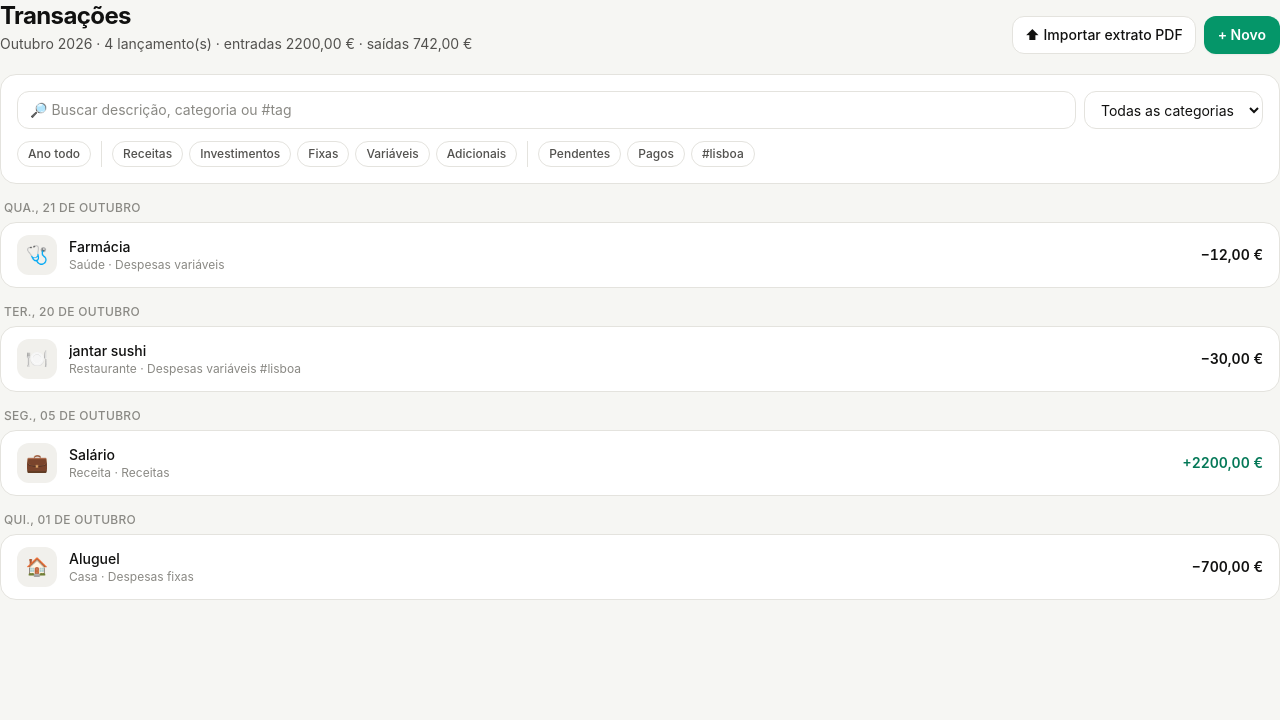
Test: Transações › editing (side panel) › changes the amount and records the change time
The width and height of the screenshot is (1280, 720).
Click the text "Farmácia" at (100, 246), box [69,238,130,255]
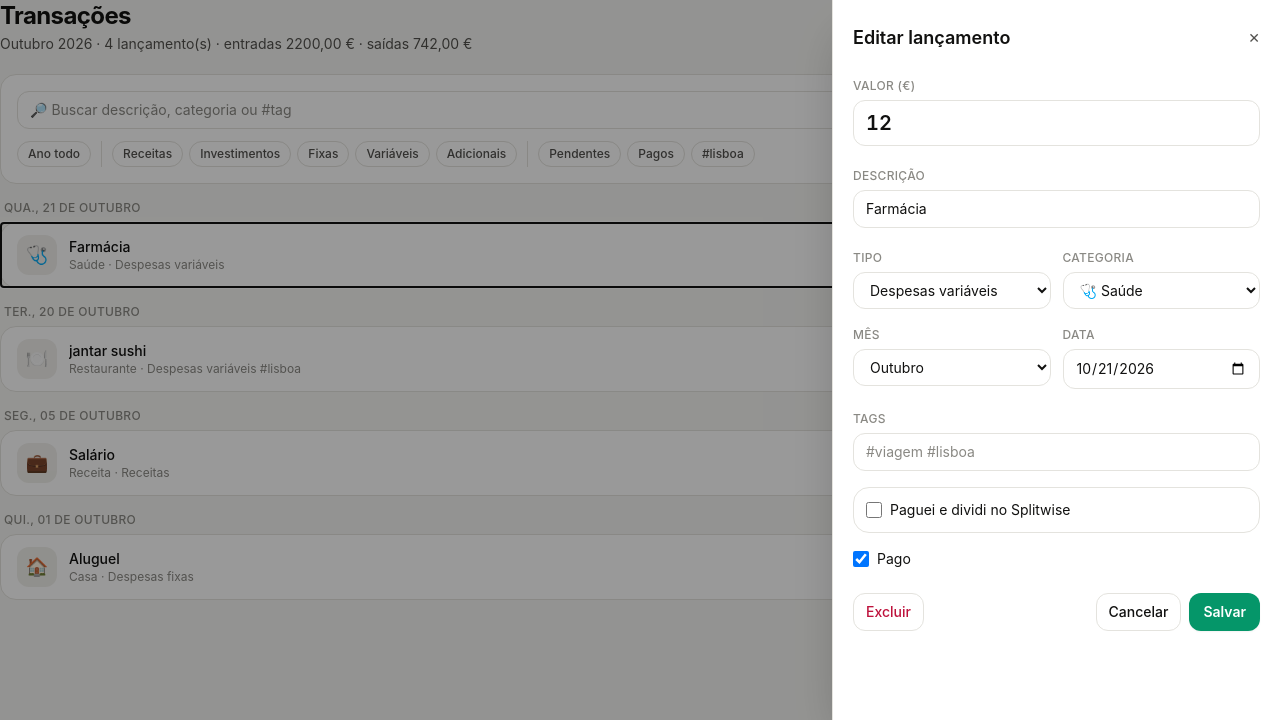
Replace the text in the field showing "12" with "15,40" at (1056, 123), box [853,100,1260,146]
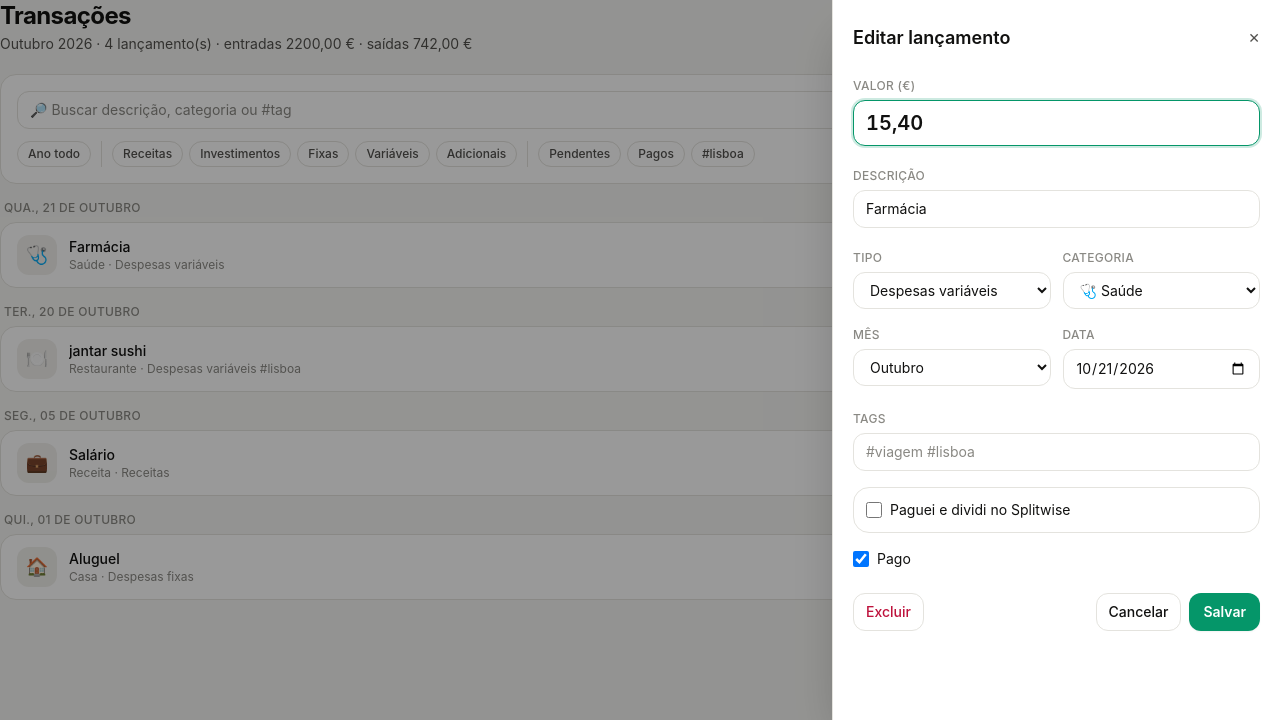
Click the button "Salvar" at (1225, 612), box [1189,593,1260,631]
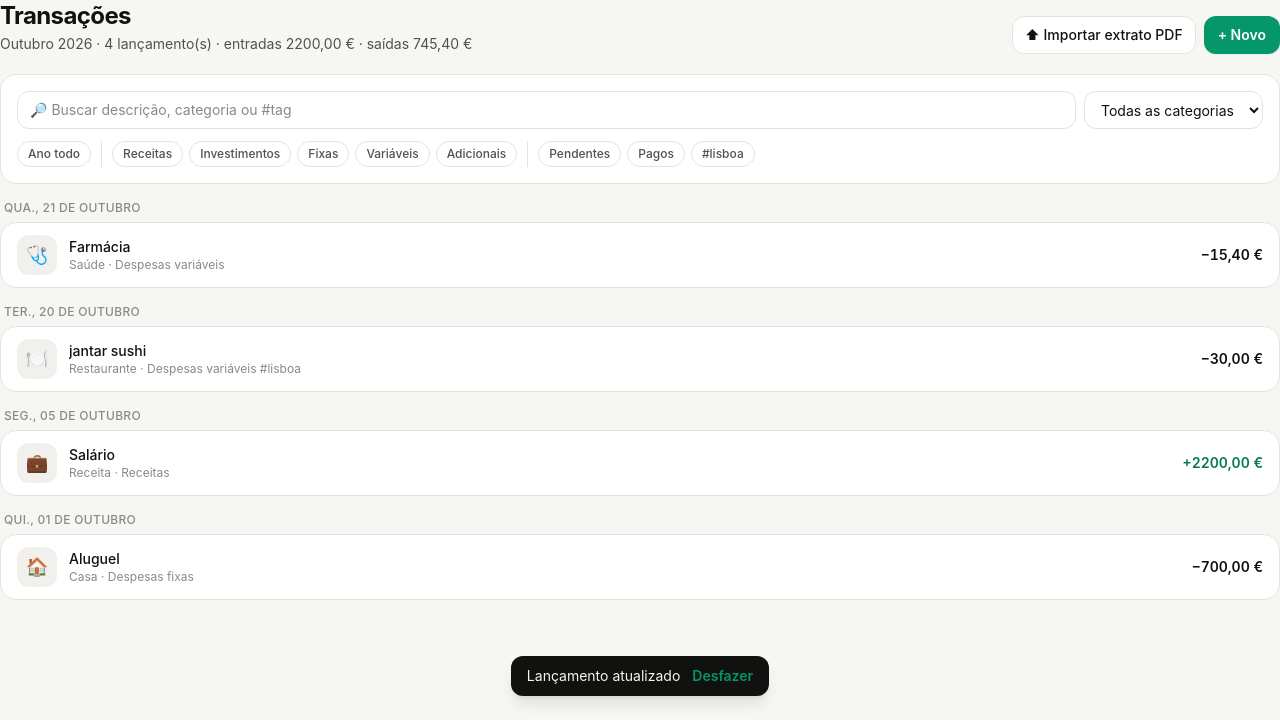
Result: the dialog is gone
